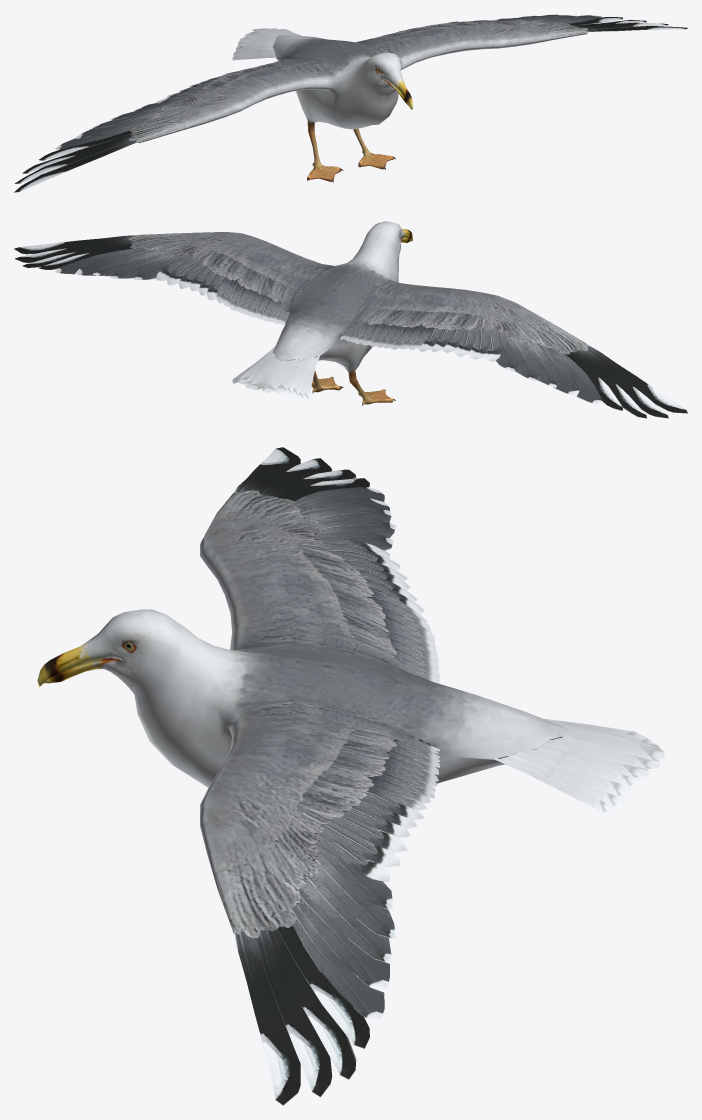
The model's file is Seagull.gltf.
The picture shows the model from 3 angles, top to bottom: view 1: azimuth 30°, elevation 25°; view 2: azimuth 150°, elevation 25°; view 3: azimuth 270°, elevation 25°; orthographic projection. The views are drawn at different scales.
Visible parts, largest first — view 1: sm_1_0_0; view 2: sm_1_0_0; view 3: sm_1_0_0.
Boxes of the visible parts, x1=… form: sm_1_0_0: x1=14, y1=14, x2=687, y2=192; sm_1_0_0: x1=14, y1=221, x2=687, y2=418; sm_1_0_0: x1=37, y1=447, x2=664, y2=1105.
Size of the model in its own units: 1.34 by 0.2695 by 0.5399.
1 material, 1 textured.
